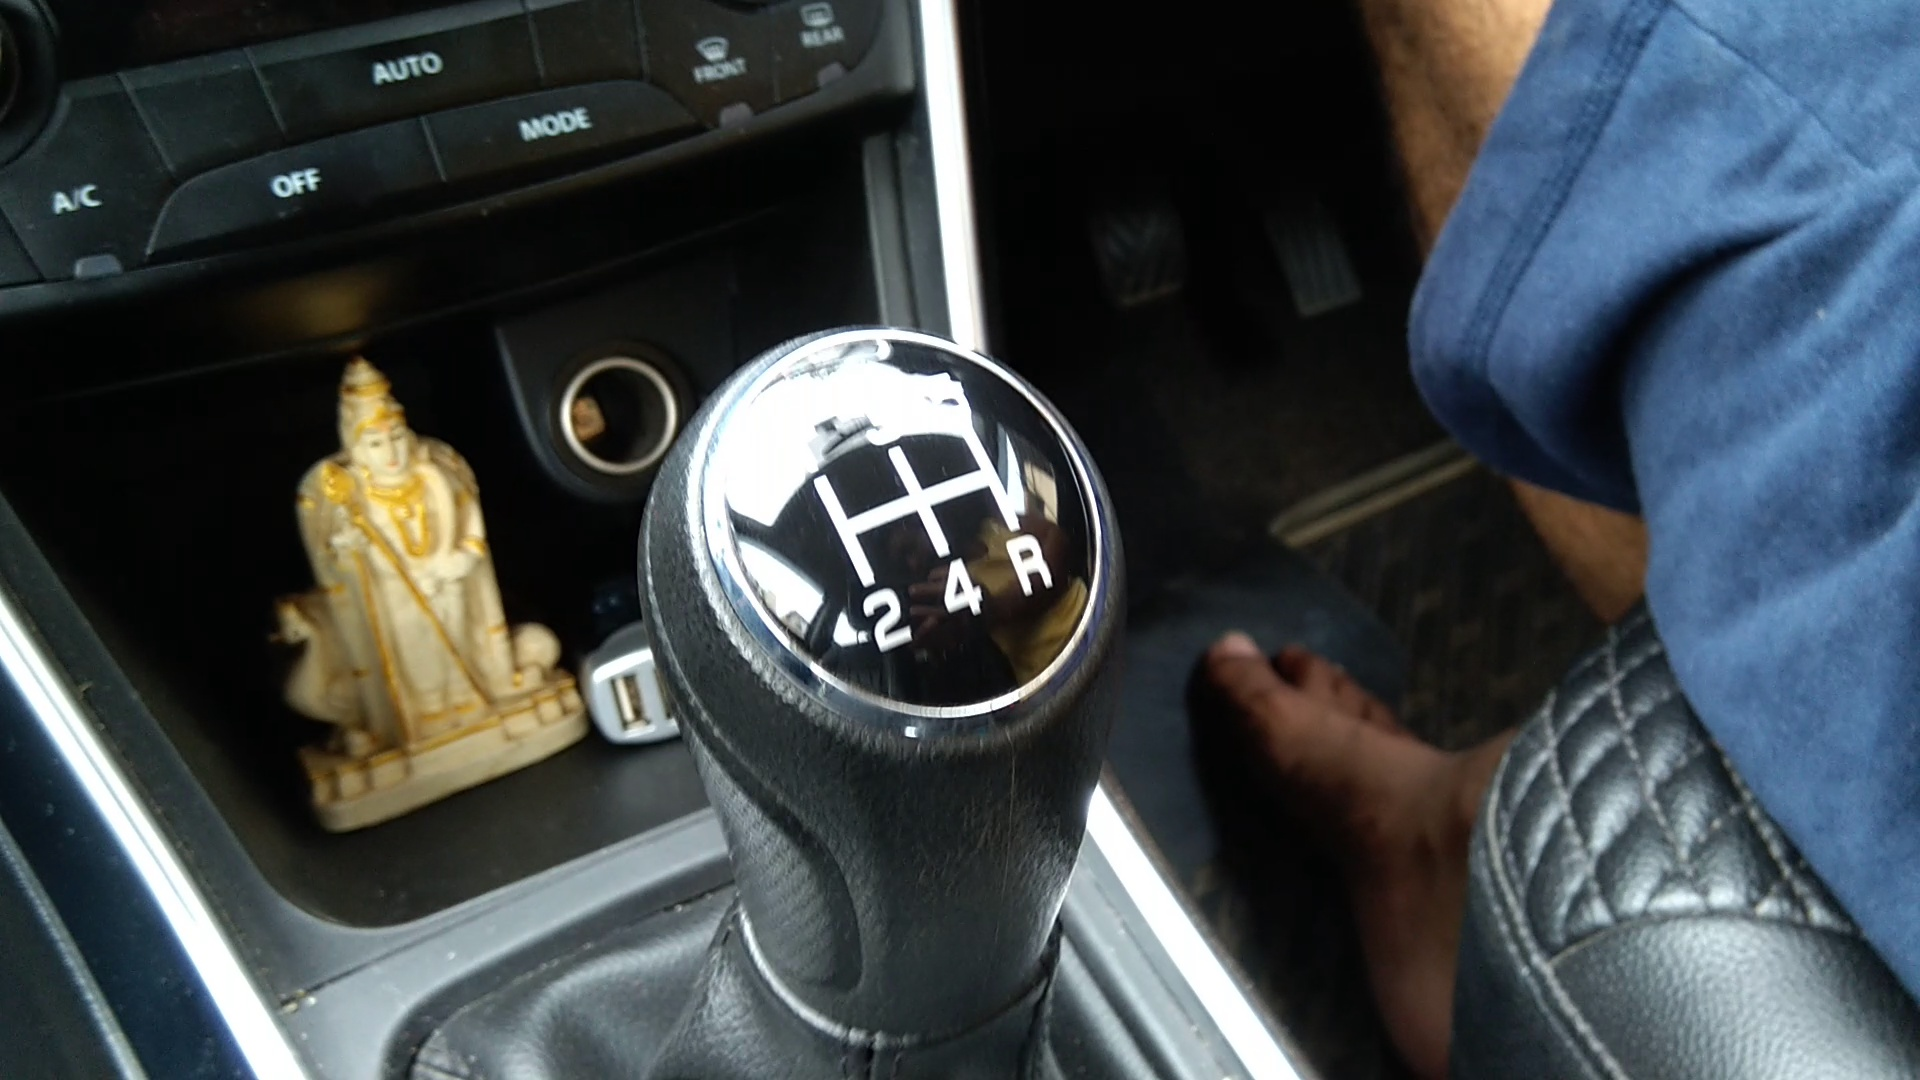manual_gear: (629, 307, 1141, 1050)
